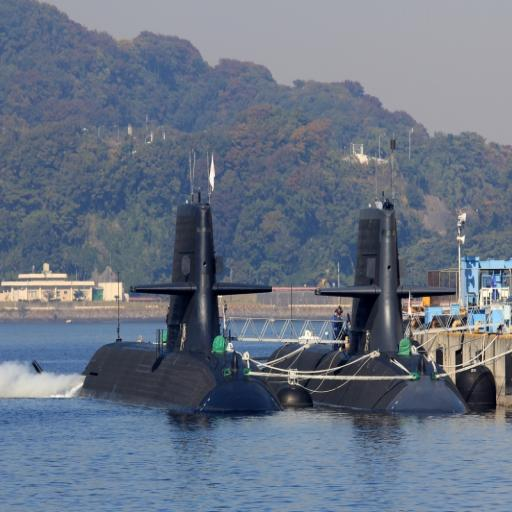submarine: (57, 202, 286, 410), (274, 207, 474, 418)
